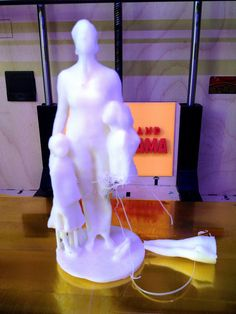fail: (96, 170, 144, 242), (125, 257, 200, 299), (150, 189, 215, 237)
